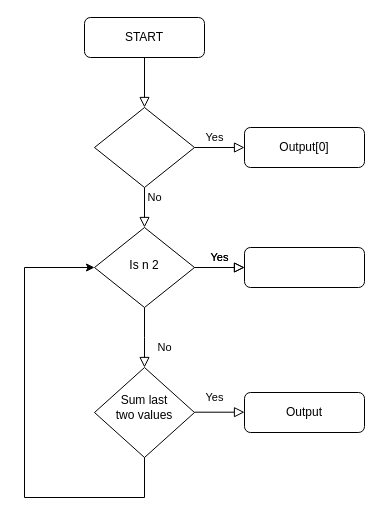
This 382x516 diagram has some shape labels left out. Here are the shapes that lost their labels. From the top down, the box of each, then its label:
(94, 106, 194, 188): Is n 1?
(244, 246, 364, 288): Output[0,1]
